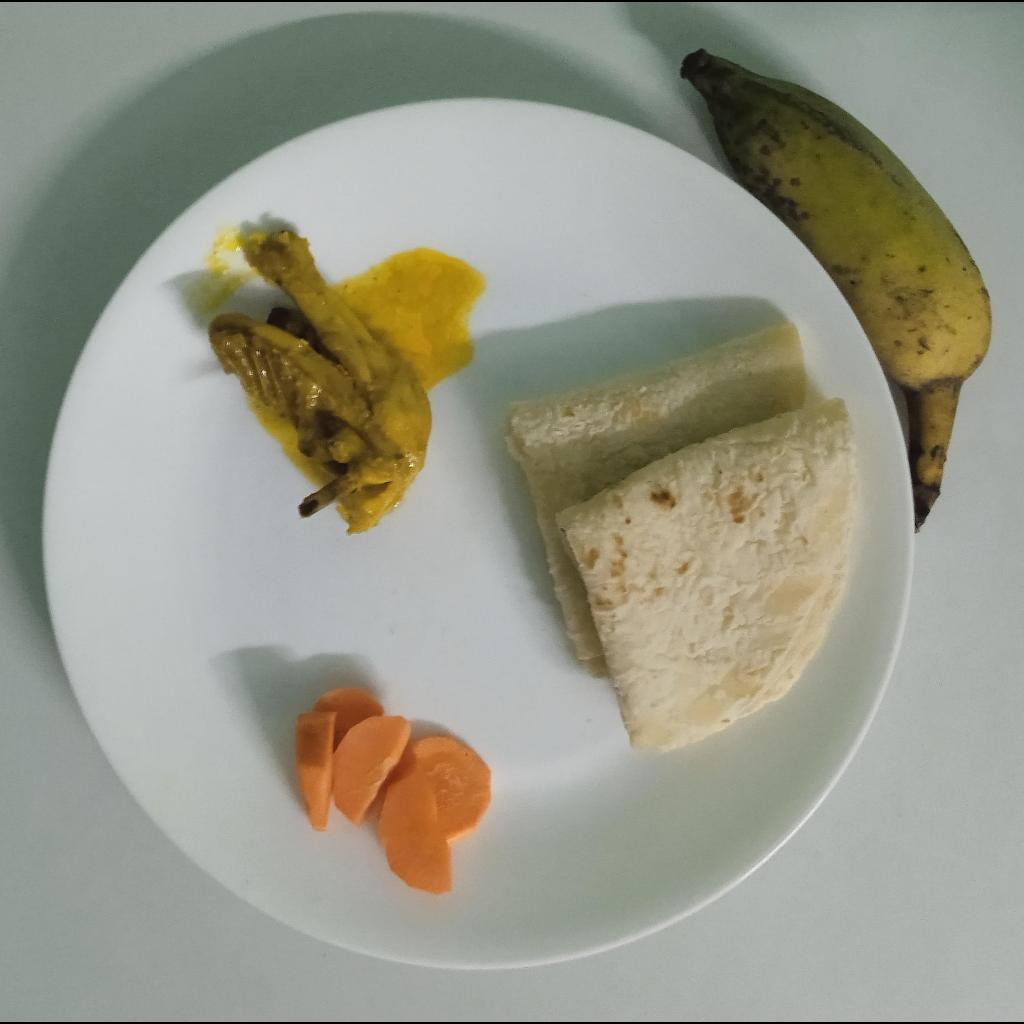banana: (677, 40, 995, 530)
carrot: (290, 688, 495, 897)
chicken: (205, 231, 436, 540)
ruti: (501, 319, 866, 762)
